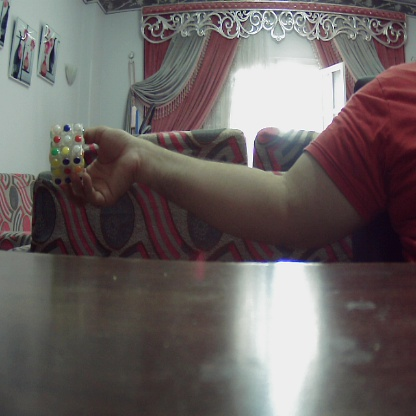Rubix Cube: (49, 125, 85, 179)
